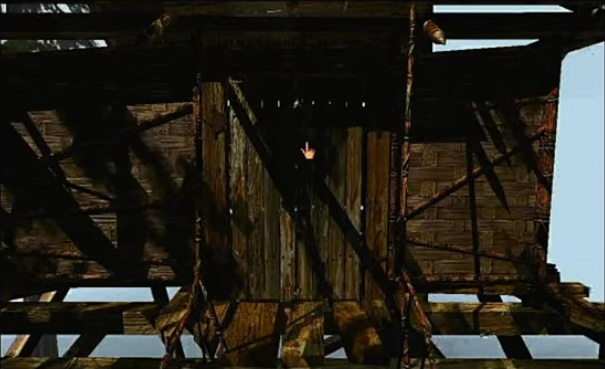Pointer: (297, 138, 319, 161)
